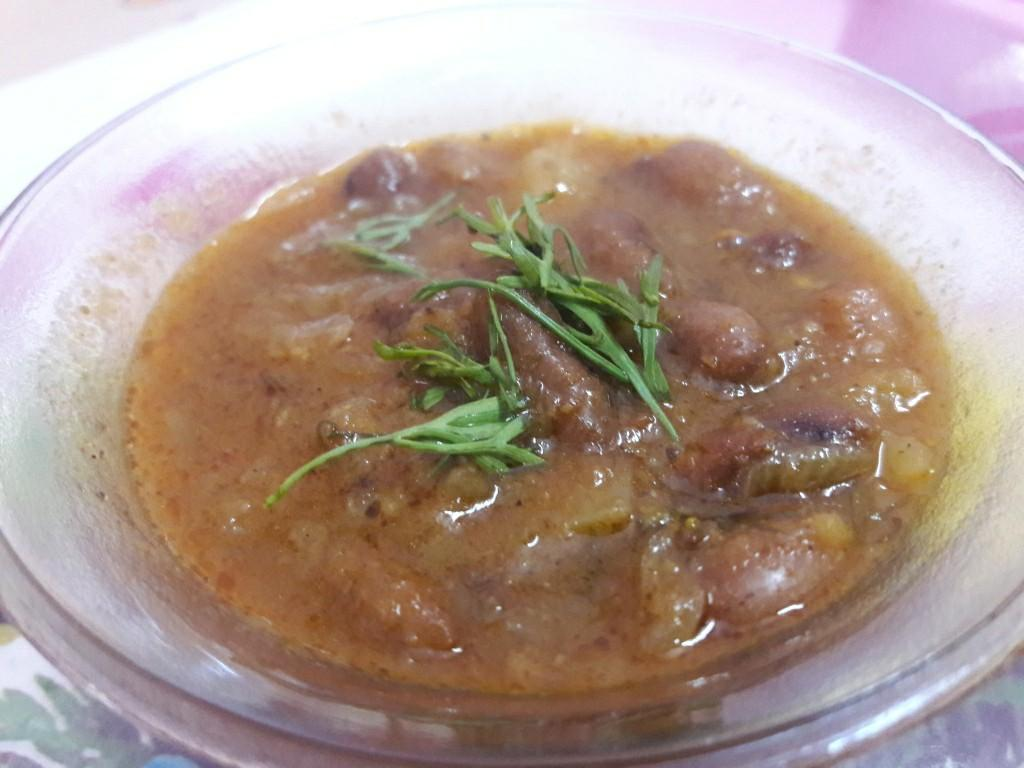RajmaCurry: (125, 124, 948, 680)
